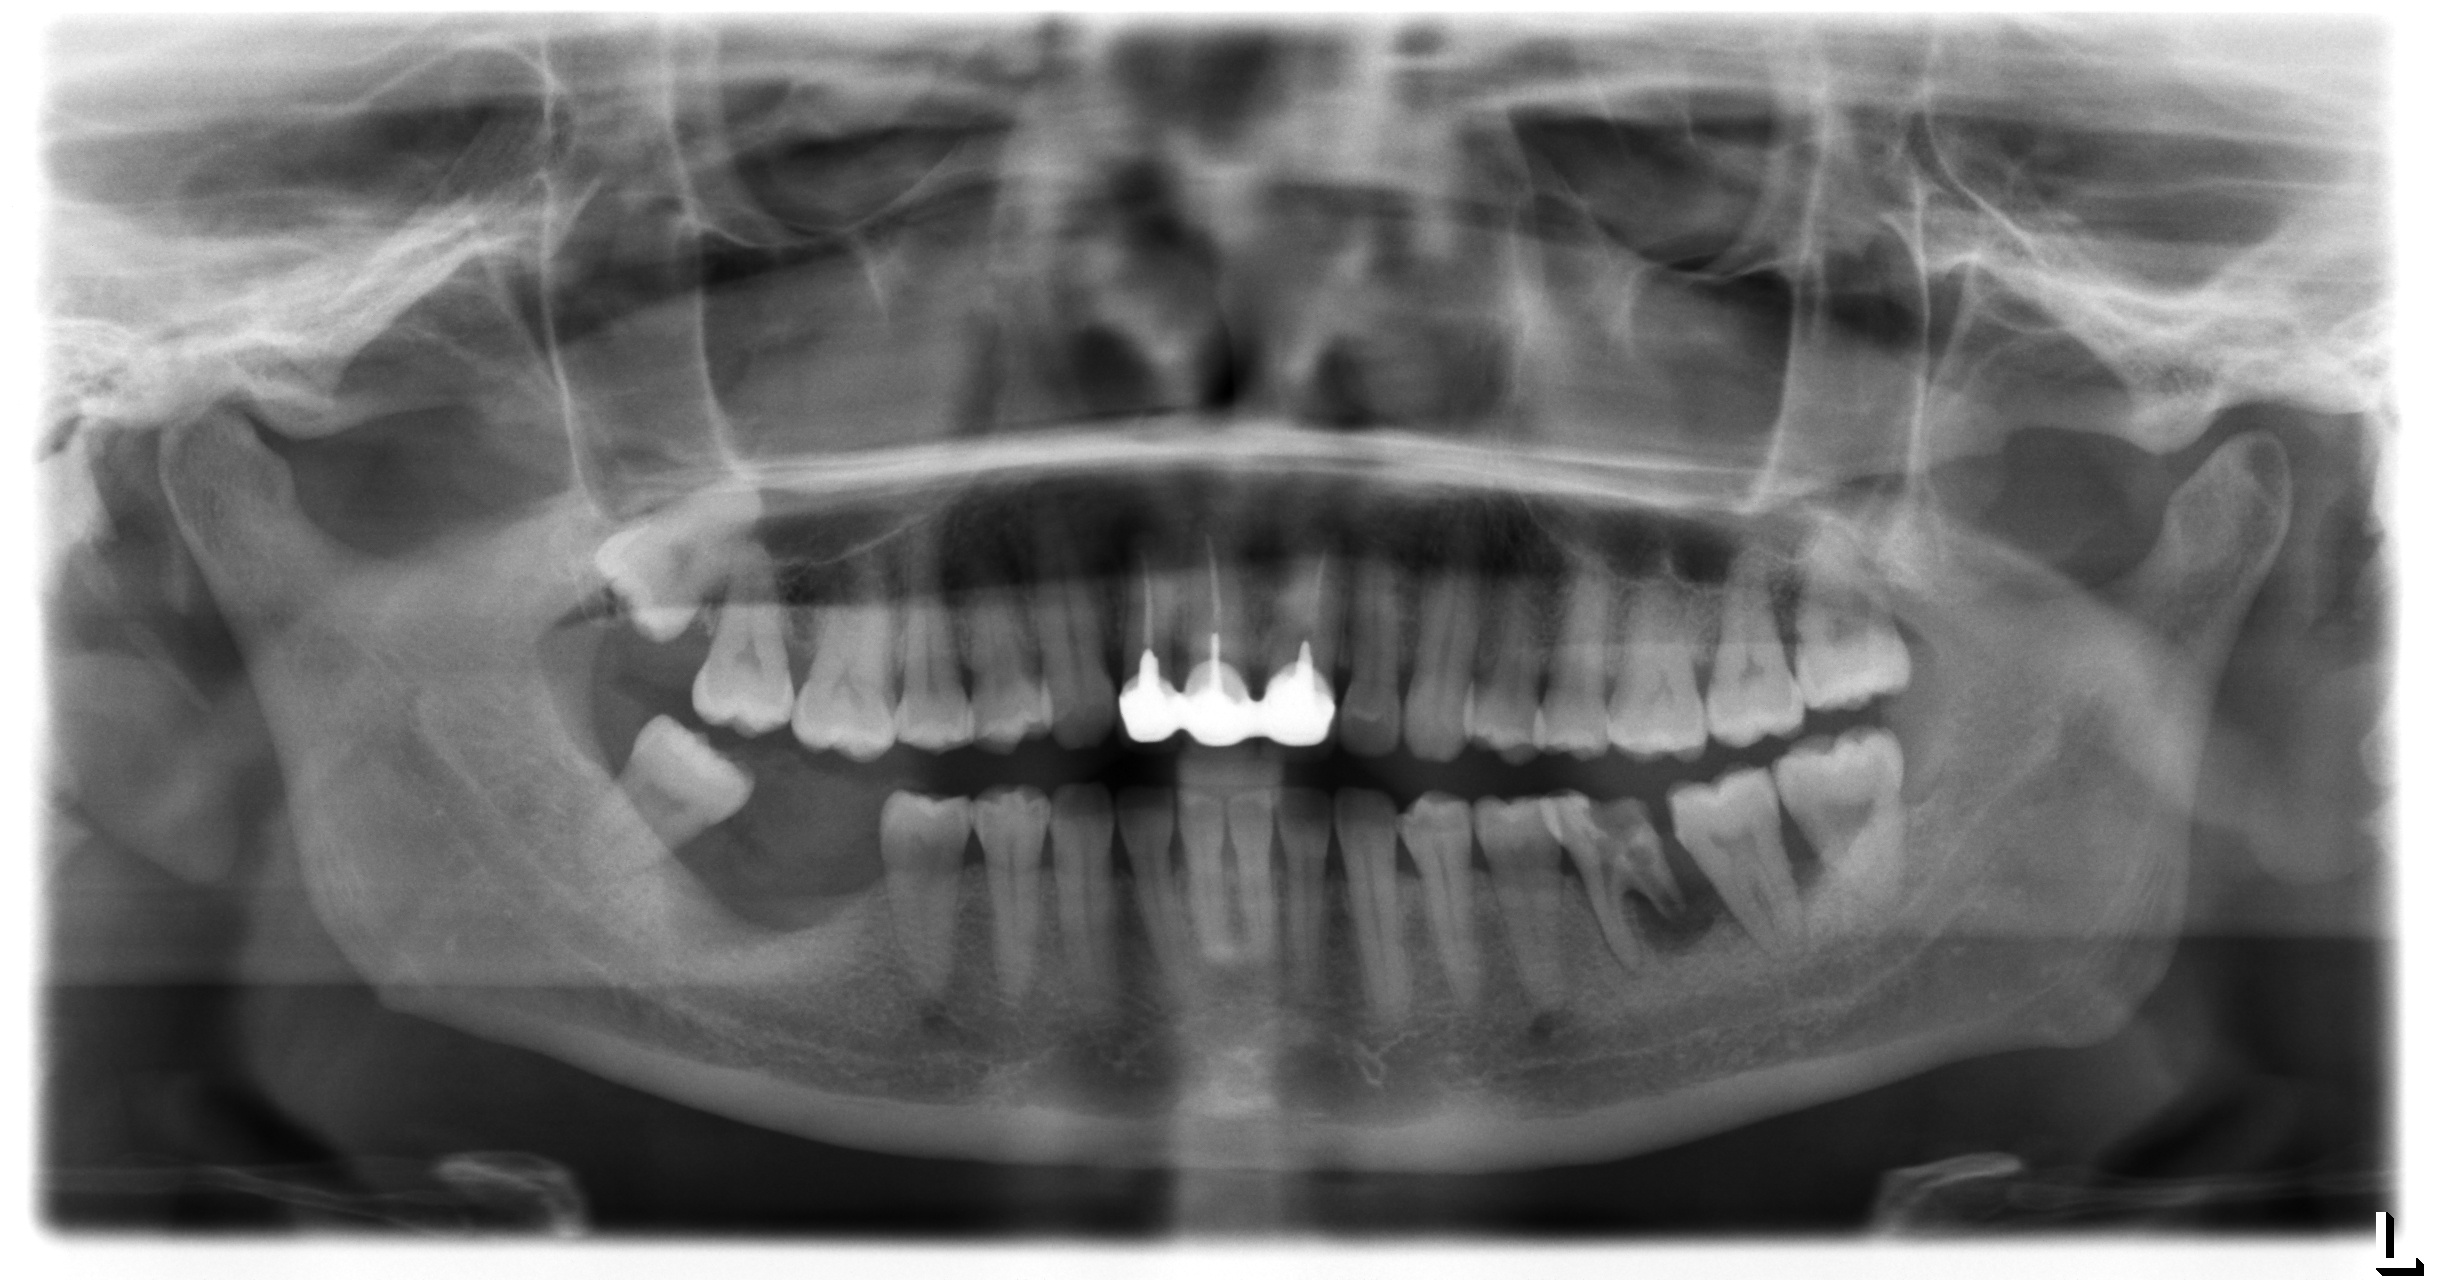Decay: (1572, 788, 1669, 862)
